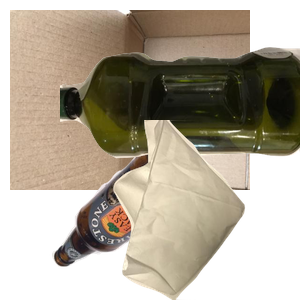cardboard: (10, 10, 250, 190)
glass: (49, 145, 229, 300)
plastic: (60, 44, 300, 195)
trash: (111, 120, 300, 300)
